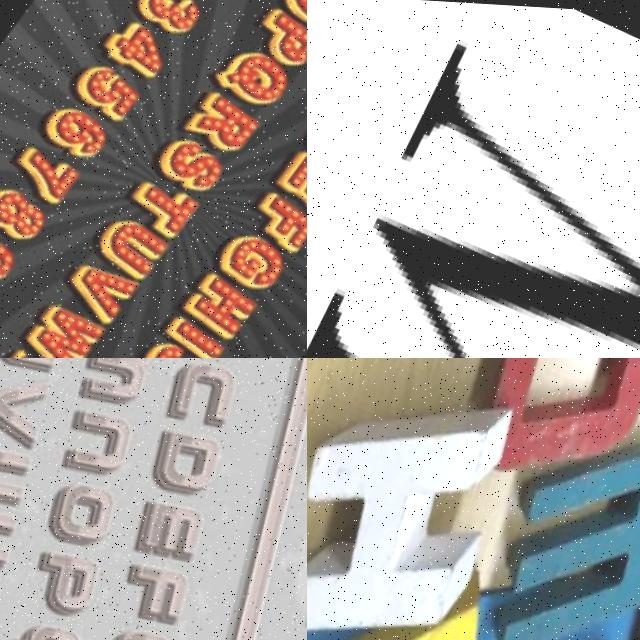3: (139, 0, 214, 38)
4: (106, 12, 190, 82)
5: (76, 56, 155, 125)
6: (42, 93, 125, 165)
7: (16, 134, 94, 200)
8: (0, 177, 62, 244)
9: (0, 219, 31, 284)
H: (307, 358, 563, 640)
M: (307, 31, 640, 358), (474, 365, 640, 640)
O: (470, 358, 640, 503)
